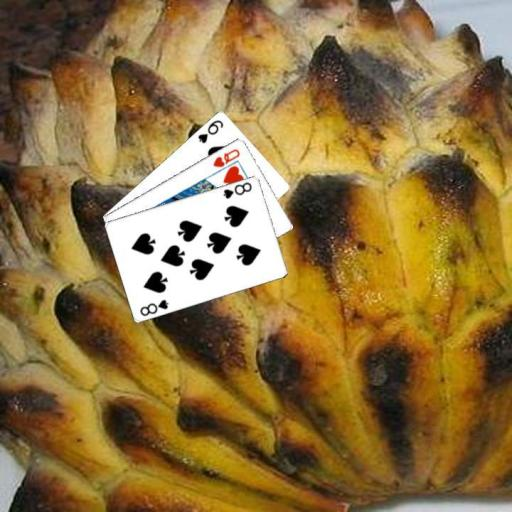6S: (195, 117, 225, 144)
8S: (220, 178, 253, 200), (136, 296, 170, 317)
QH: (210, 145, 242, 169)
